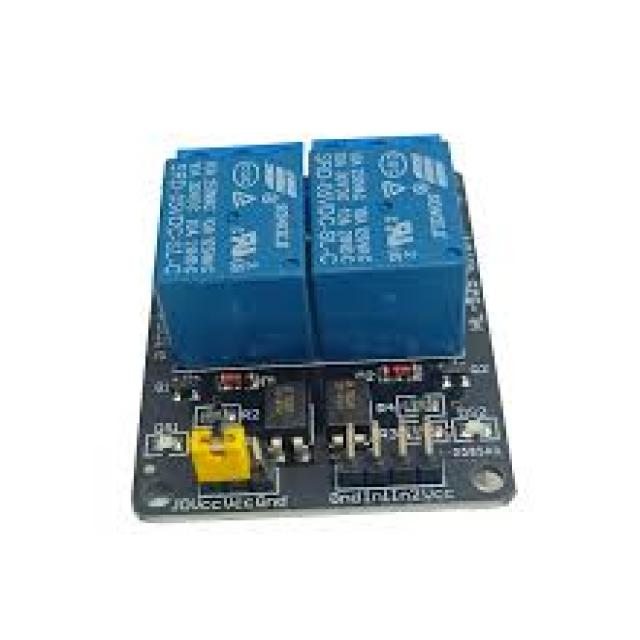Relay: (131, 134, 515, 523)
